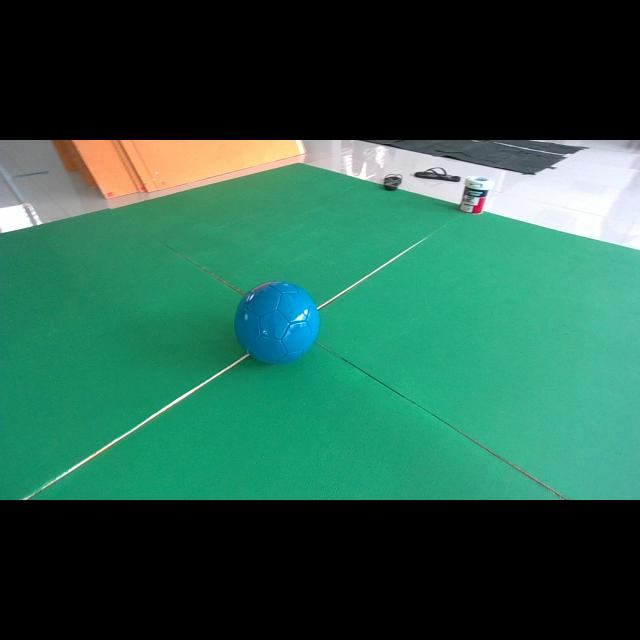B: (235, 281, 320, 364)
